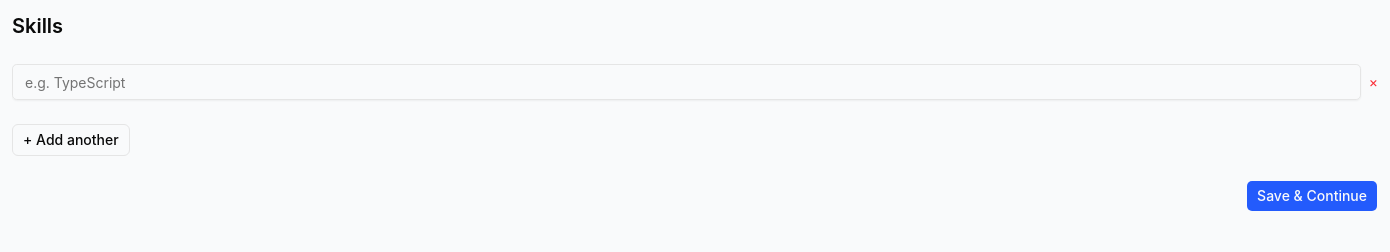
SkillsStep › blur on empty skill name renders text-red-600 error below the field
The image size is (1390, 252).
Click the field with placeholder "e.g. TypeScript" at (686, 82), box [12,64,1361,100]
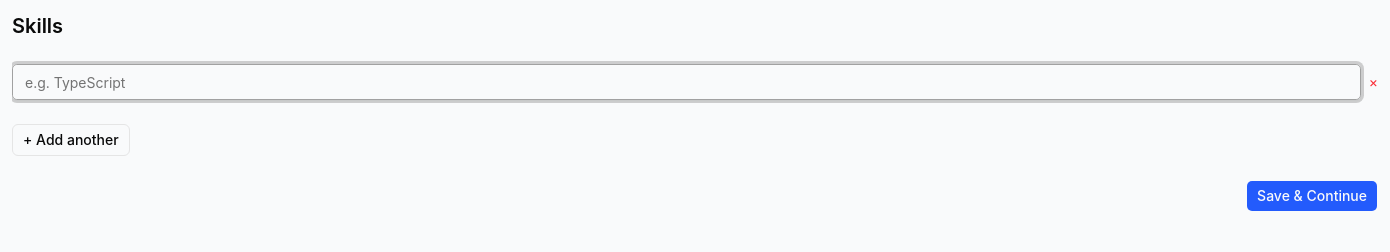
Press Tab
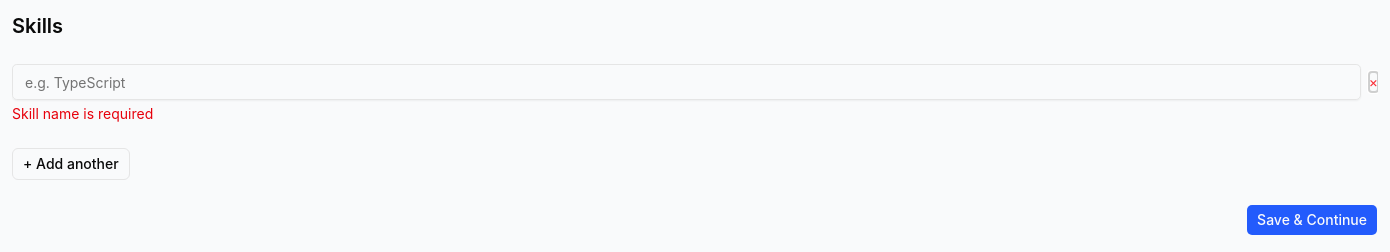
Result: the text "Skill name is required" is shown at [12,105,153,122]
